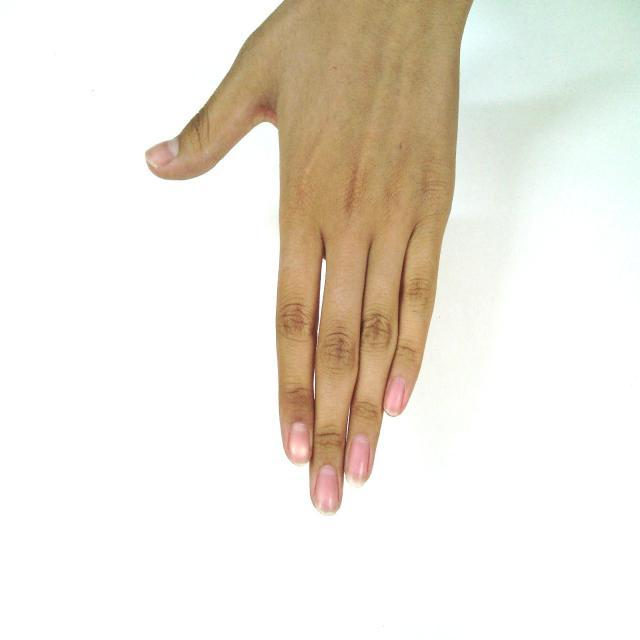Fingernail: (315, 465, 339, 514), (347, 434, 369, 485), (289, 422, 309, 464), (147, 140, 177, 166), (385, 377, 404, 414)
